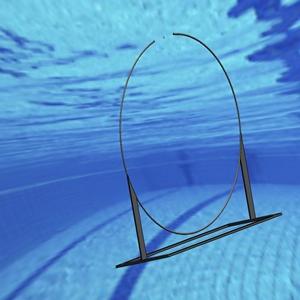circle: (112, 29, 280, 263)
